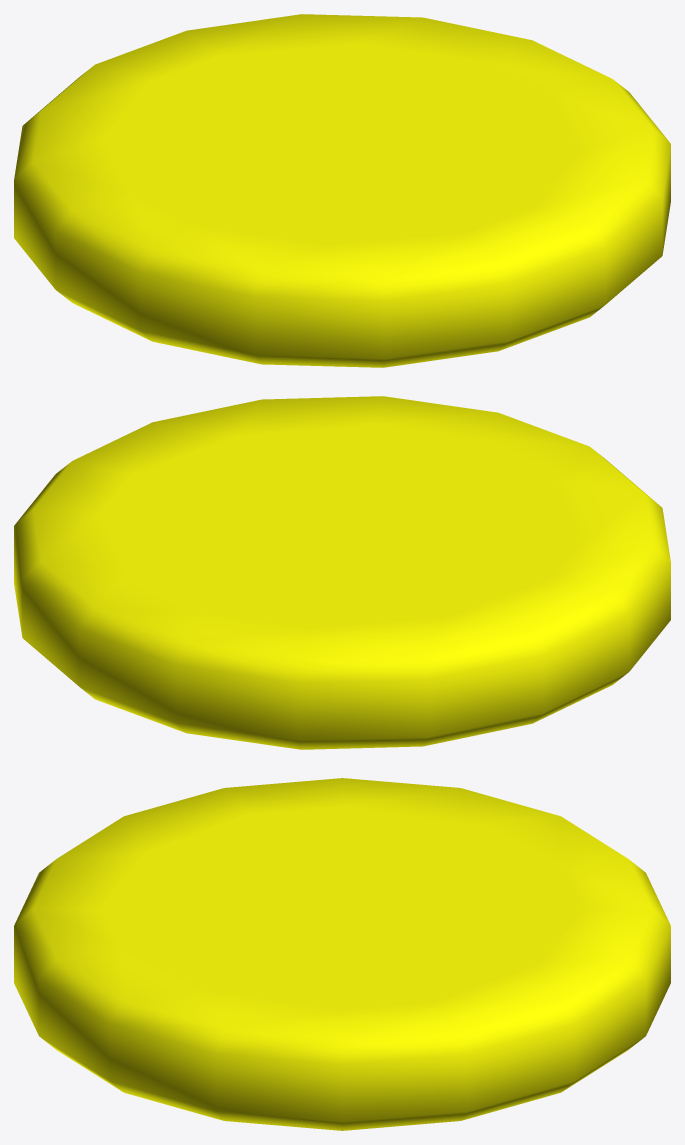
The model's file is kaykit-food-ingredient-tomato-slice.glb.
The picture shows the model from 3 angles, top to bottom: view 1: azimuth 30°, elevation 25°; view 2: azimuth 150°, elevation 25°; view 3: azimuth 270°, elevation 25°; orthographic projection.
Visible parts, largest first — view 1: food_ingredient_tomato_slice; view 2: food_ingredient_tomato_slice; view 3: food_ingredient_tomato_slice.
Part boxes in pixels (box(x1,y1,x2,y2)): food_ingredient_tomato_slice: box(14, 14, 670, 367); food_ingredient_tomato_slice: box(14, 396, 670, 749); food_ingredient_tomato_slice: box(14, 778, 670, 1130).
Bounding box in the file's own units: 0.65 × 0.1 × 0.65.
